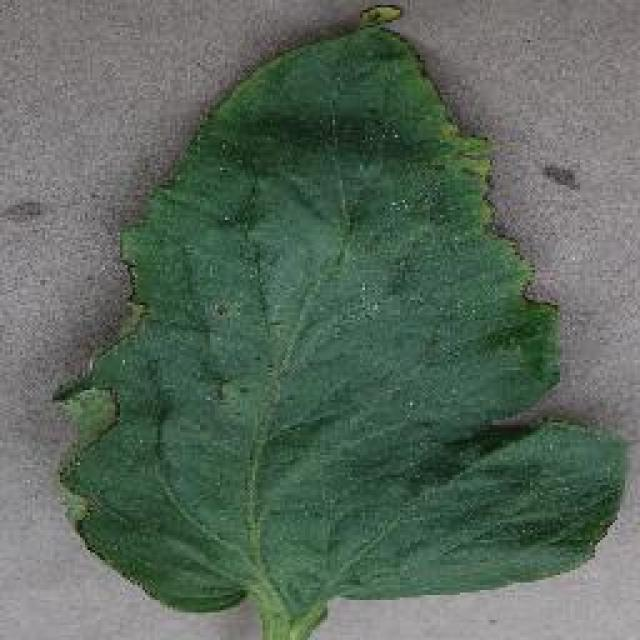Tomato___Bacterial_spot: (44, 2, 633, 638)
